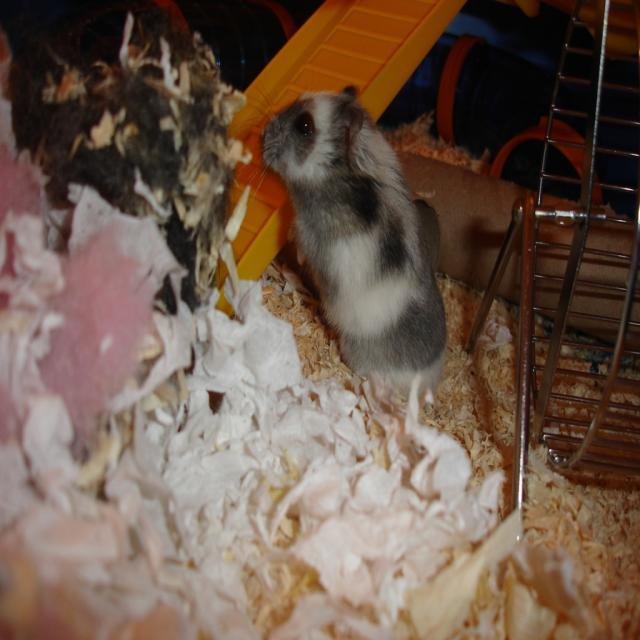rat: (248, 90, 440, 396)
